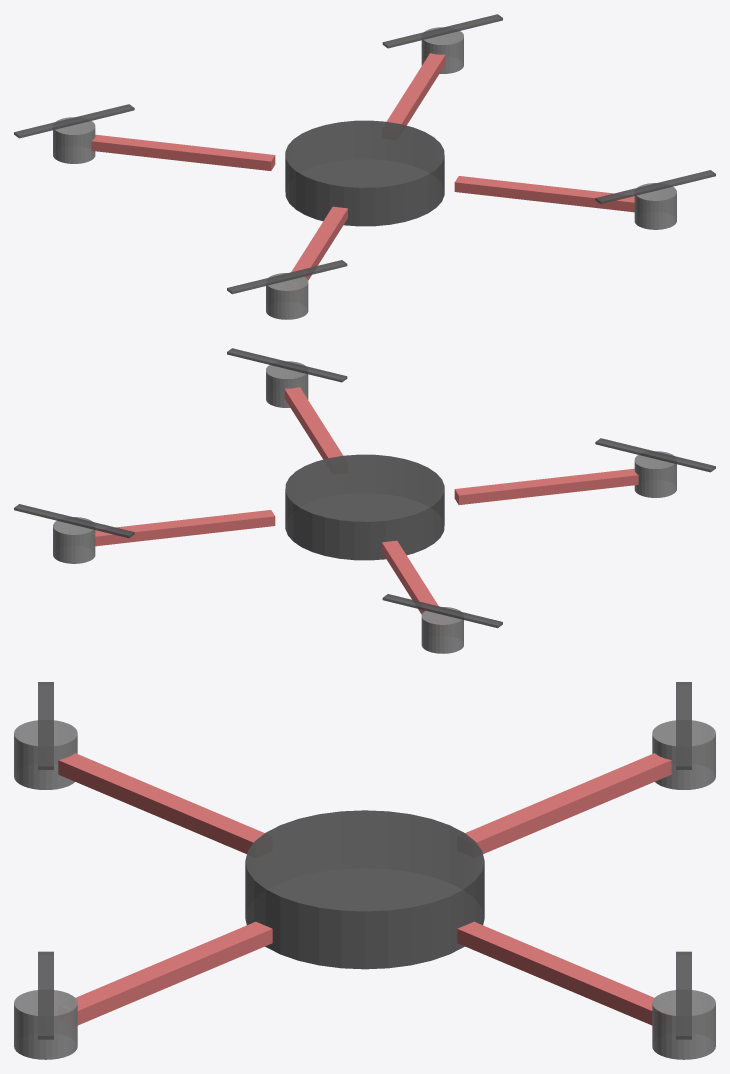
3 views of the same model, one above another, from view 1: azimuth 30°, elevation 25°; view 2: azimuth 150°, elevation 25°; view 3: azimuth 270°, elevation 25° (orthographic). The views are drawn at different scales.
Parts seen in each view (by area): view 1: Drone_Body, Drone_Arm_2, Drone_Arm_4, Drone_Motor_3, Drone_Motor_4, Drone_Motor_2, Drone_Arm_1, Drone_Arm_3, Drone_Motor_1, Drone_Propeller_4, Drone_Propeller_1, Drone_Propeller_2 (+1 smaller); view 2: Drone_Body, Drone_Arm_3, Drone_Arm_1, Drone_Motor_2, Drone_Motor_1, Drone_Motor_3, Drone_Arm_4, Drone_Arm_2, Drone_Motor_4, Drone_Propeller_1, Drone_Propeller_4, Drone_Propeller_3 (+1 smaller); view 3: Drone_Body, Drone_Arm_2, Drone_Arm_3, Drone_Arm_1, Drone_Arm_4, Drone_Motor_1, Drone_Motor_4, Drone_Motor_2, Drone_Motor_3, Drone_Propeller_1, Drone_Propeller_4, Drone_Propeller_2 (+1 smaller).
Part boxes in pixels (left/top/right/bottom): Drone_Body: left=285, top=120, right=444, bottom=226; Drone_Arm_2: left=91, top=134, right=275, bottom=170; Drone_Arm_4: left=454, top=176, right=634, bottom=212; Drone_Motor_3: left=266, top=273, right=308, bottom=319; Drone_Motor_4: left=634, top=183, right=676, bottom=229; Drone_Motor_2: left=53, top=117, right=95, bottom=163; Drone_Arm_1: left=386, top=53, right=445, bottom=125; Drone_Arm_3: left=291, top=206, right=347, bottom=280; Drone_Motor_1: left=421, top=27, right=463, bottom=73; Drone_Propeller_4: left=595, top=170, right=715, bottom=204; Drone_Propeller_1: left=382, top=14, right=502, bottom=48; Drone_Propeller_2: left=14, top=104, right=134, bottom=138; Drone_Body: left=285, top=454, right=444, bottom=560; Drone_Arm_3: left=454, top=468, right=638, bottom=504; Drone_Arm_1: left=95, top=510, right=275, bottom=546; Drone_Motor_2: left=421, top=607, right=463, bottom=653; Drone_Motor_1: left=53, top=517, right=95, bottom=563; Drone_Motor_3: left=634, top=451, right=676, bottom=497; Drone_Arm_4: left=284, top=387, right=343, bottom=459; Drone_Arm_2: left=382, top=540, right=438, bottom=614; Drone_Motor_4: left=266, top=361, right=308, bottom=407; Drone_Propeller_1: left=14, top=504, right=134, bottom=538; Drone_Propeller_4: left=227, top=348, right=347, bottom=382; Drone_Propeller_3: left=595, top=438, right=715, bottom=472; Drone_Body: left=245, top=810, right=484, bottom=969; Drone_Arm_2: left=465, top=753, right=671, bottom=853; Drone_Arm_3: left=58, top=753, right=264, bottom=853; Drone_Arm_1: left=457, top=921, right=654, bottom=1025; Drone_Arm_4: left=75, top=921, right=272, bottom=1025; Drone_Motor_1: left=652, top=990, right=715, bottom=1059; Drone_Motor_4: left=14, top=990, right=77, bottom=1059; Drone_Motor_2: left=652, top=720, right=715, bottom=789; Drone_Motor_3: left=14, top=720, right=77, bottom=789; Drone_Propeller_1: left=676, top=951, right=691, bottom=1039; Drone_Propeller_4: left=38, top=951, right=53, bottom=1039; Drone_Propeller_2: left=676, top=682, right=691, bottom=769.
Bounding box in the file's own units: 1.05 × 0.0825 × 0.88.
